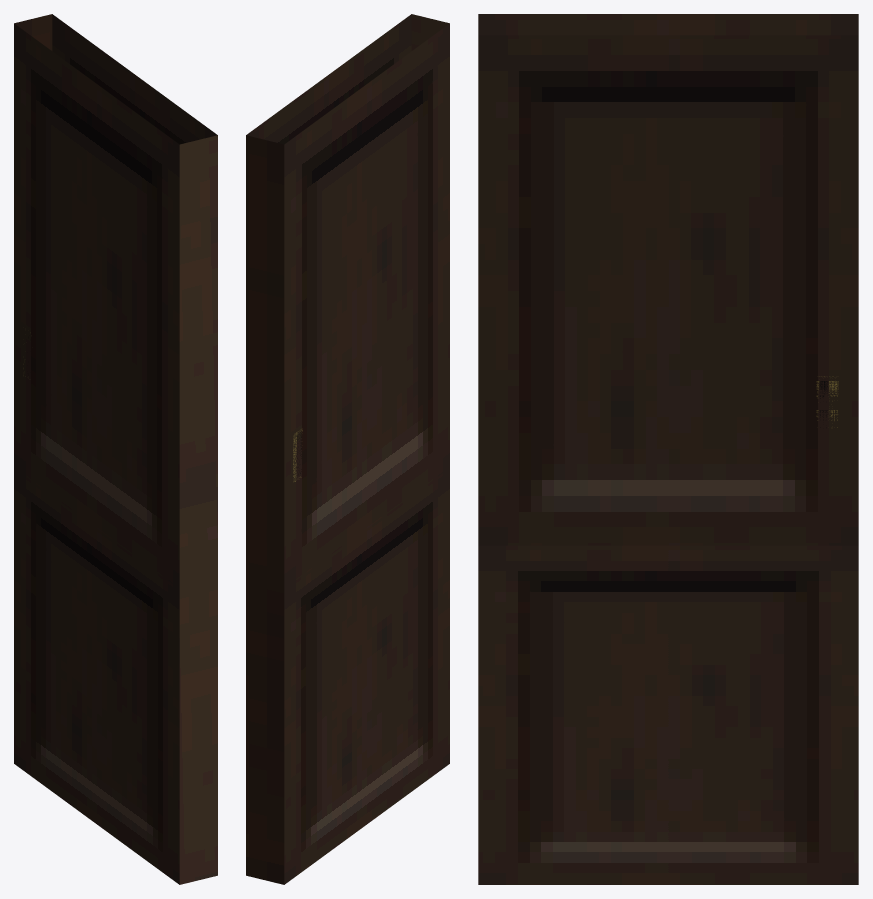
The model's file is primary_148.glb.
The picture shows the model from 3 angles, left to right: view 1: azimuth 30°, elevation 25°; view 2: azimuth 150°, elevation 25°; view 3: azimuth 270°, elevation 25°; orthographic projection. The views are drawn at different scales.
Parts seen in each view (by area): view 1: Object; view 2: Object; view 3: Object.
Part boxes in pixels (<box>): Object: <box>14,14,217,884</box>; Object: <box>246,14,449,884</box>; Object: <box>478,14,858,884</box>.
Size of the model in its own units: 0.1506 by 2.79 by 1.13.
Materials: 7 (7 with a texture image).
